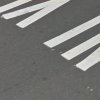crosswalk: (0, 0, 100, 71)
